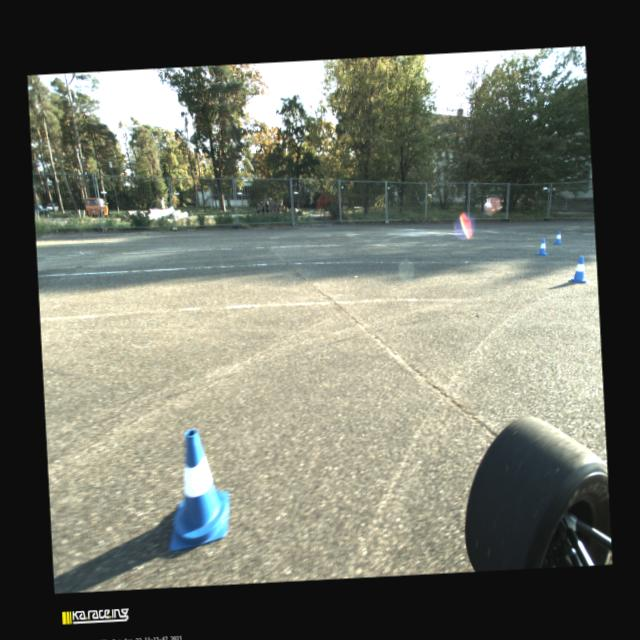blue_cone: (162, 427, 232, 552), (566, 254, 590, 285), (536, 238, 548, 256), (552, 230, 563, 246)
